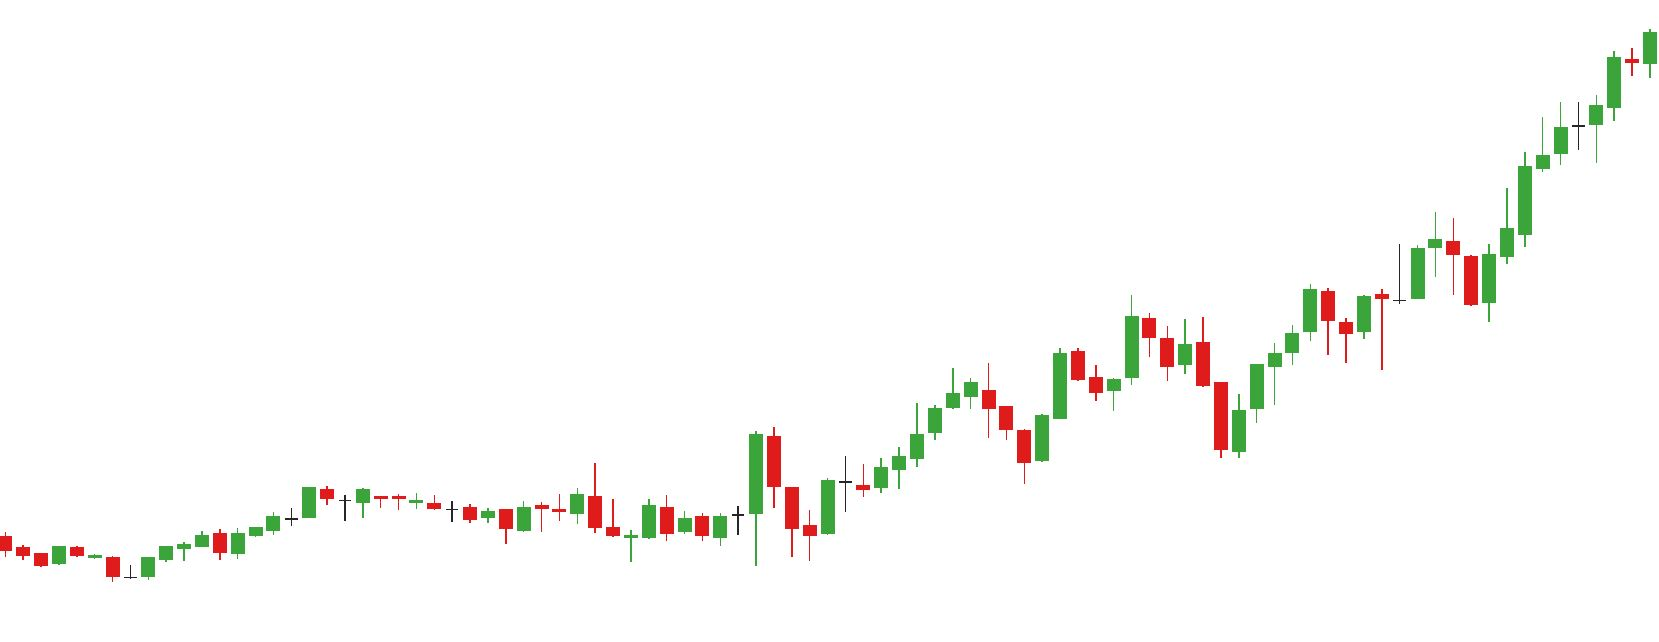buy: (1090, 338, 1268, 457)
